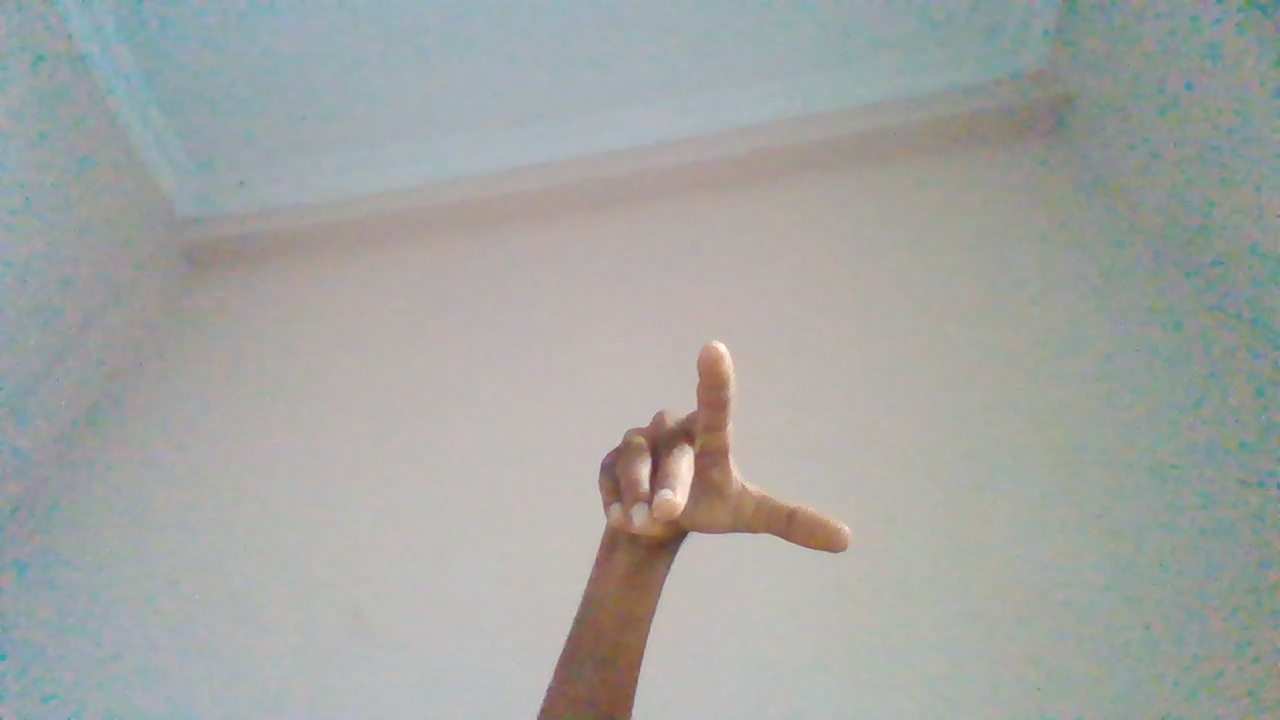ke: (561, 344, 856, 669)
